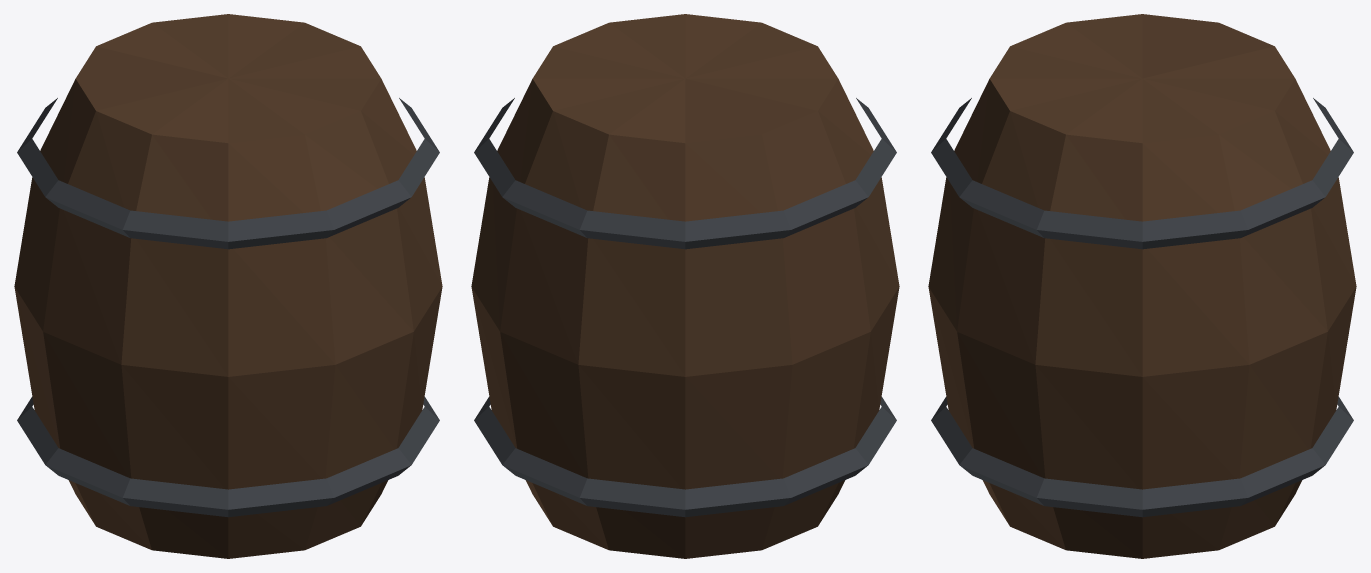
Rendered from barrel.glb.
3 views of the same model, side by side, from view 1: azimuth 30°, elevation 25°; view 2: azimuth 150°, elevation 25°; view 3: azimuth 270°, elevation 25° (orthographic).
Visible parts, largest first — view 1: barrel; view 2: barrel; view 3: barrel.
Part boxes in pixels (x1,y1,x2,y2): barrel: [14, 14, 442, 558]; barrel: [471, 14, 899, 558]; barrel: [928, 14, 1356, 558].
Bounding box in the file's own units: 0.84 × 0.9 × 0.84.
